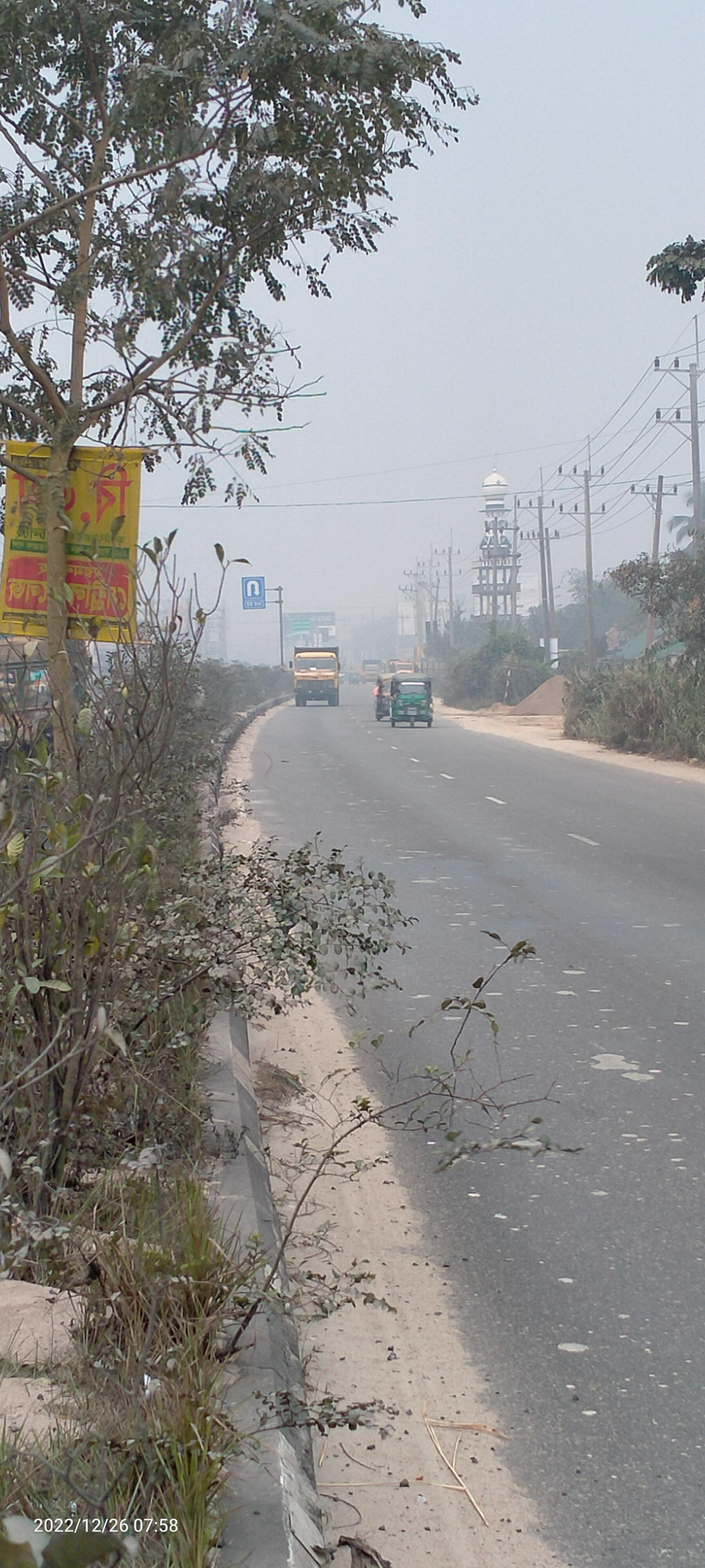Truck: (283, 641, 349, 709)
